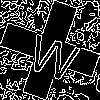W: (25, 25, 84, 83)
